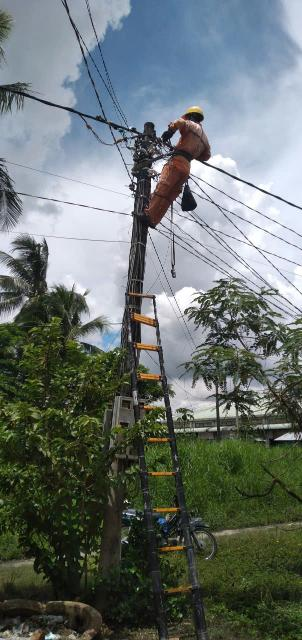gloves: (162, 127, 176, 143)
harness: (169, 147, 197, 167)
helmet: (178, 104, 210, 122)
shoes: (133, 209, 154, 223)
